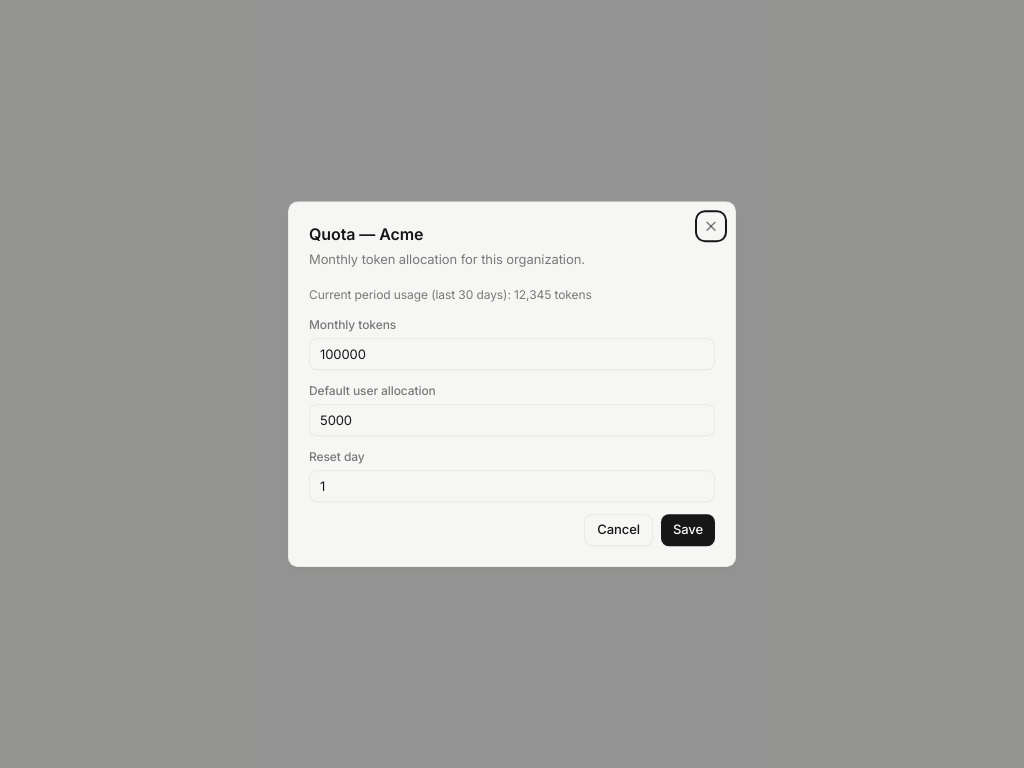
it: shows an inline error message when saving fails
The width and height of the screenshot is (1024, 768).
Expected: the number field labelled "Monthly tokens" is shown, top-left (309, 338), bottom-right (715, 370)
Step 1. Click the button "Save" → (688, 530), box top-left (661, 514), bottom-right (715, 546)
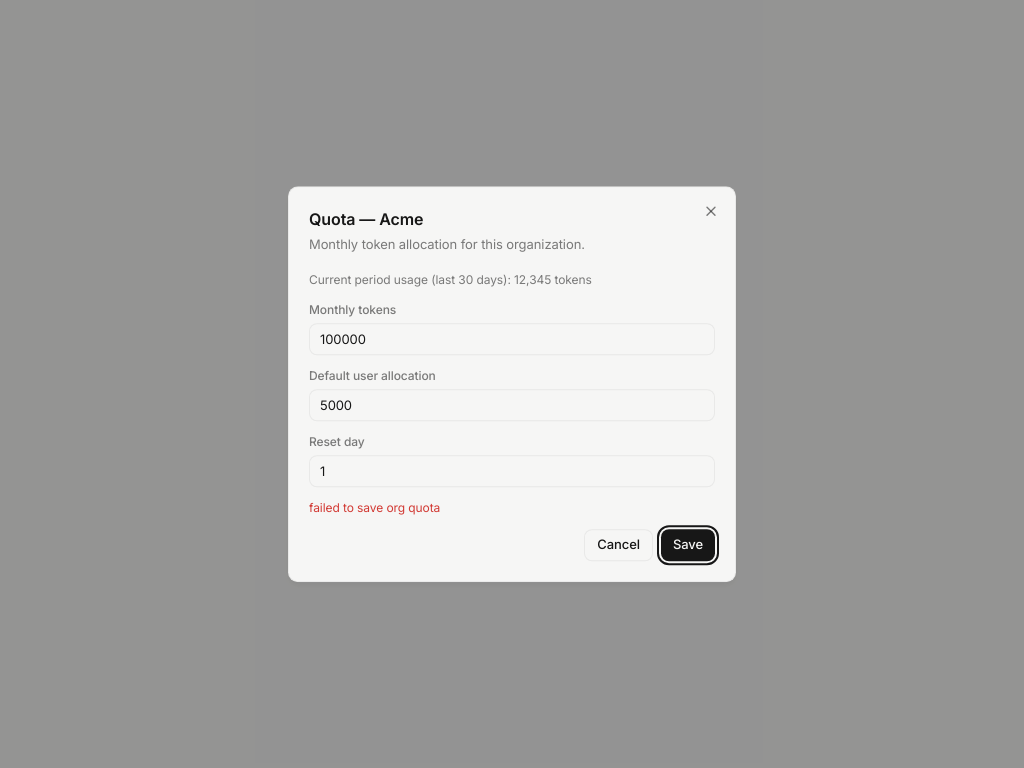
Now the message shows "failed to save", box top-left (309, 500), bottom-right (440, 515)
